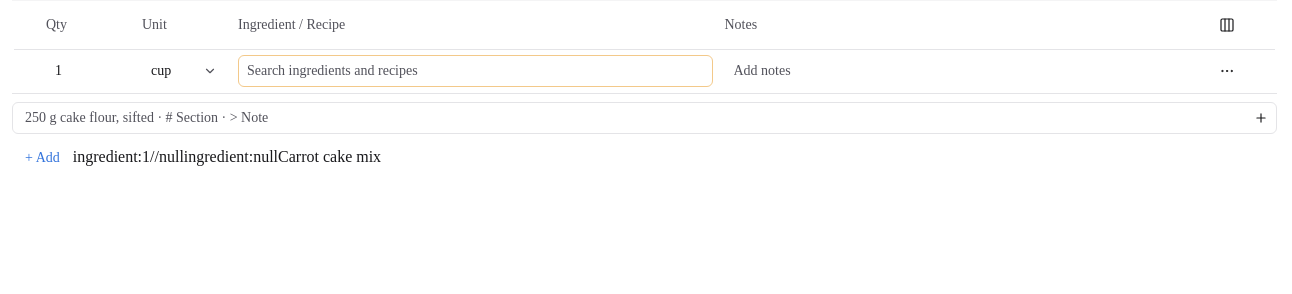
Test: recipe items table catalog picker › lists the pantry before the catalog
Type "carr" into the dropdown named "Ingredient or recipe" at (475, 71), box x1=238 y1=55 x2=712 y2=87
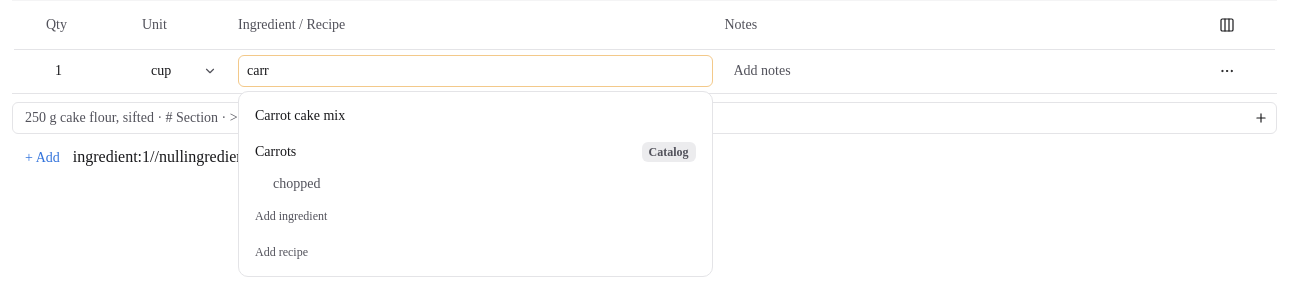
Expected: the options read "Carrot cake mix", "CarrotsCatalog", "chopped", in this order, x1=245 y1=98 x2=706 y2=134; x1=245 y1=134 x2=706 y2=170; x1=245 y1=170 x2=706 y2=198
